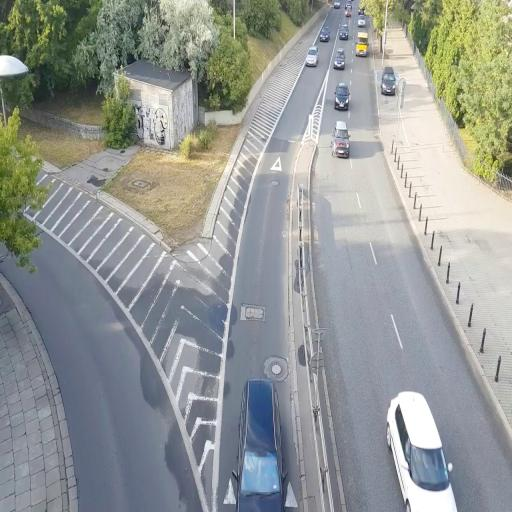vehicle: (386, 389, 457, 512), (234, 377, 282, 510), (331, 121, 350, 158), (380, 67, 398, 96), (334, 83, 350, 110), (306, 46, 319, 67), (334, 48, 346, 69), (319, 26, 330, 43), (338, 26, 350, 40)
